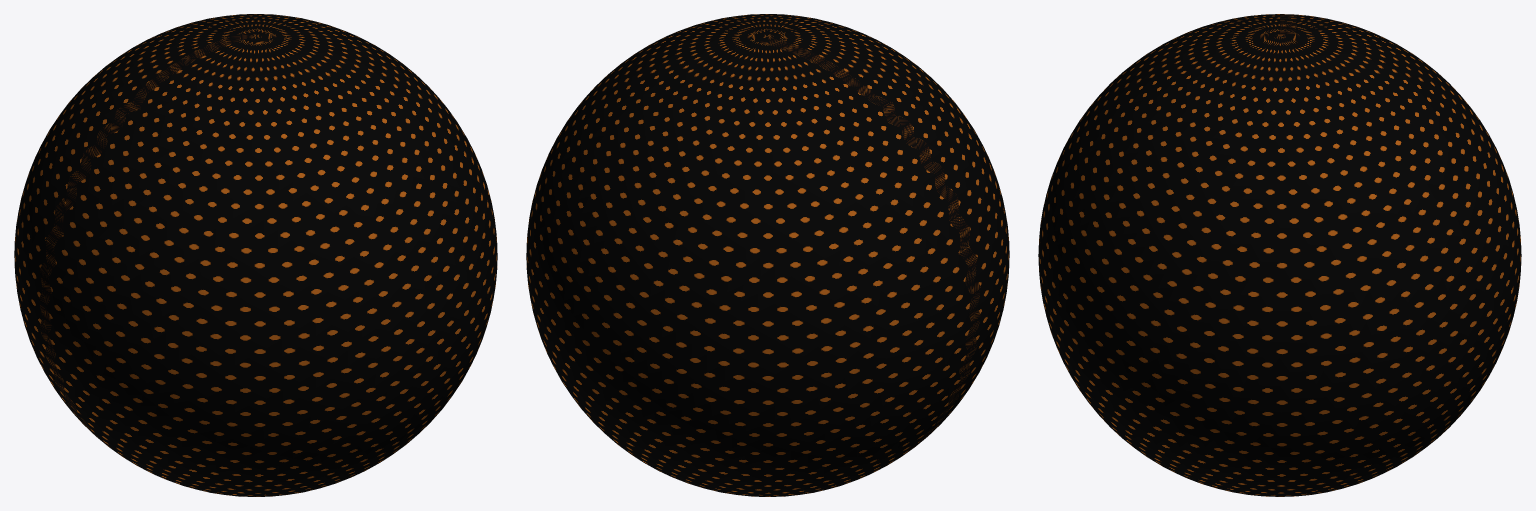
File: indium_dotted_sphere_A1A!.glb
The picture shows the model from 3 angles, left to right: view 1: azimuth 30°, elevation 25°; view 2: azimuth 150°, elevation 25°; view 3: azimuth 270°, elevation 25°; orthographic projection.
Visible parts, largest first — view 1: world; view 2: world; view 3: world.
Part boxes in pixels (<box>): world: <box>14,14,497,496</box>; world: <box>526,14,1009,496</box>; world: <box>1038,14,1521,496</box>.
Size of the model in its own units: 2 by 2 by 2.
Materials: 1 (1 with a texture image).
